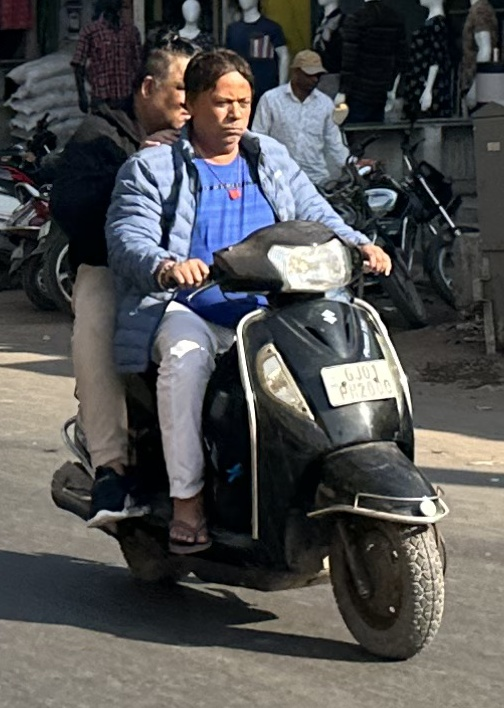BikeWithRider: (33, 31, 459, 671)
NoHelmet: (184, 45, 262, 155), (127, 40, 204, 126)
